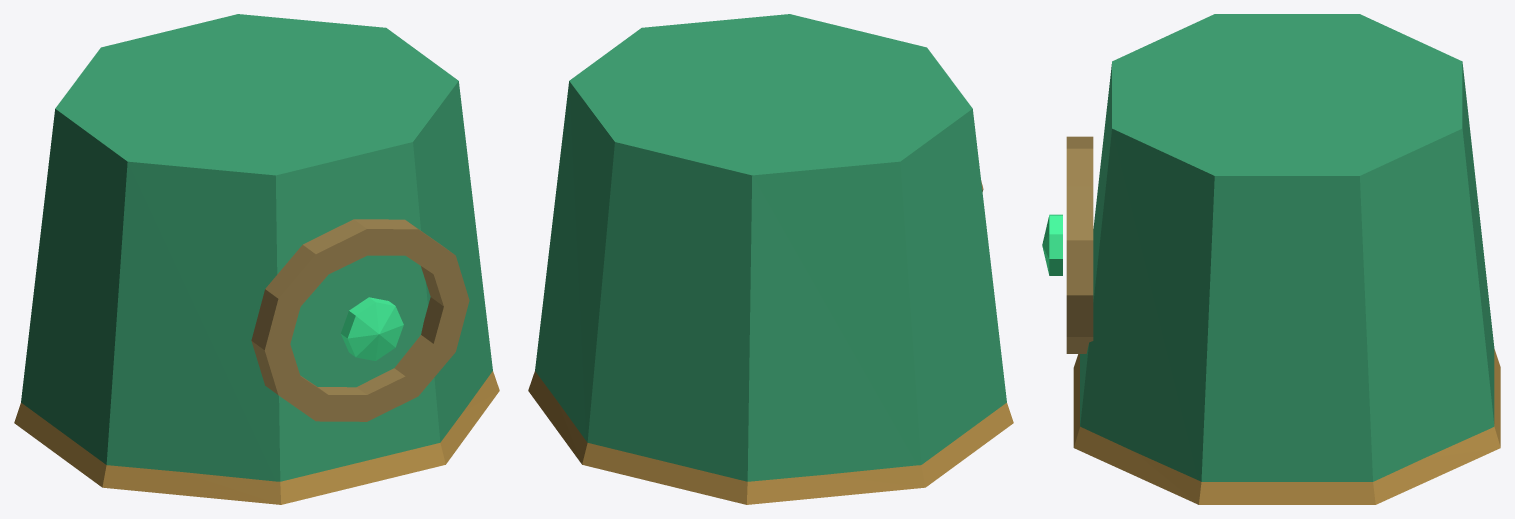
Rendered from jade_octagonal_level.obj.
3 renders of one model, left to right at view 1: azimuth 30°, elevation 25°; view 2: azimuth 150°, elevation 25°; view 3: azimuth 270°, elevation 25°, orthographic.
Visible parts, largest first — view 1: jade_octagonal, octagonal_window, jade_sill, level_gem; view 2: jade_octagonal, jade_sill; view 3: jade_octagonal, jade_sill, octagonal_window, level_gem.
Boxes of the visible parts, bbox=[...] form: jade_octagonal: bbox=[21, 14, 492, 481]; octagonal_window: bbox=[251, 219, 469, 421]; jade_sill: bbox=[14, 371, 499, 504]; level_gem: bbox=[341, 297, 403, 360]; jade_octagonal: bbox=[535, 14, 1006, 481]; jade_sill: bbox=[528, 371, 1013, 504]; jade_octagonal: bbox=[1080, 14, 1494, 481]; jade_sill: bbox=[1073, 349, 1500, 504]; octagonal_window: bbox=[1066, 136, 1093, 353]; level_gem: bbox=[1042, 214, 1062, 275].
Bounding box in the file's own units: 0.7761 × 0.5825 × 0.774.
